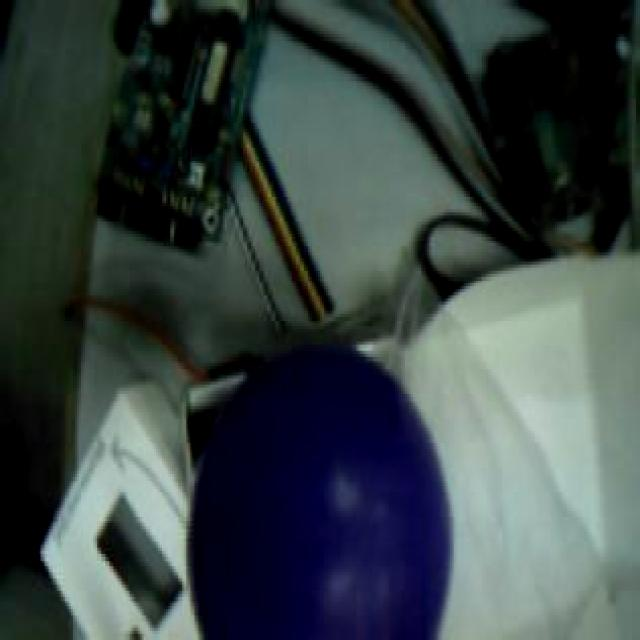BallPurple: (187, 344, 449, 640)
